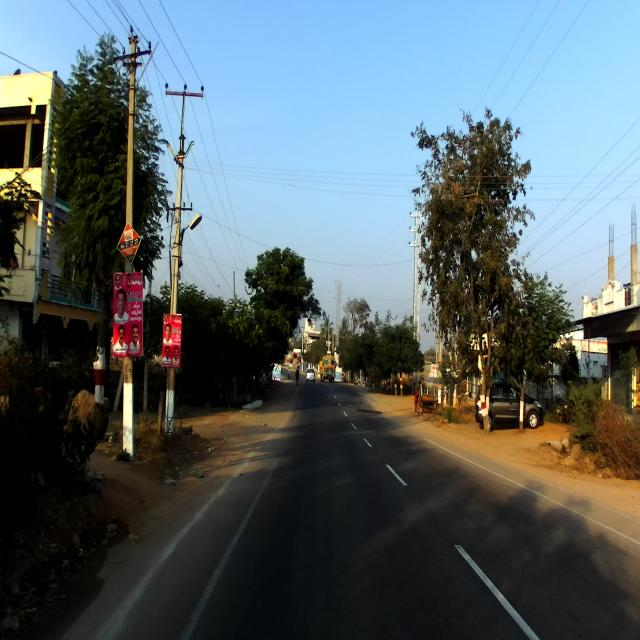electric pole ahead at: (99, 24, 154, 462), (156, 74, 205, 432)
tree ahead at: (418, 113, 520, 439)
